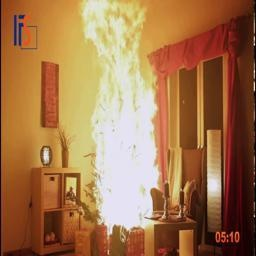fire: (69, 1, 170, 233)
